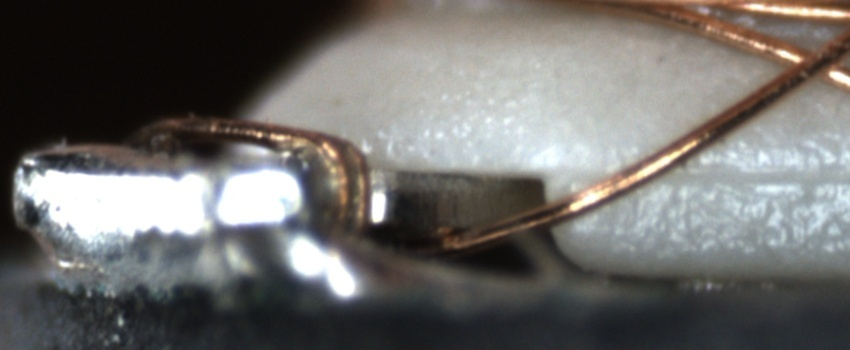CL: (767, 33, 848, 91)
DL: (571, 138, 849, 203)
TE: (134, 114, 380, 248)
